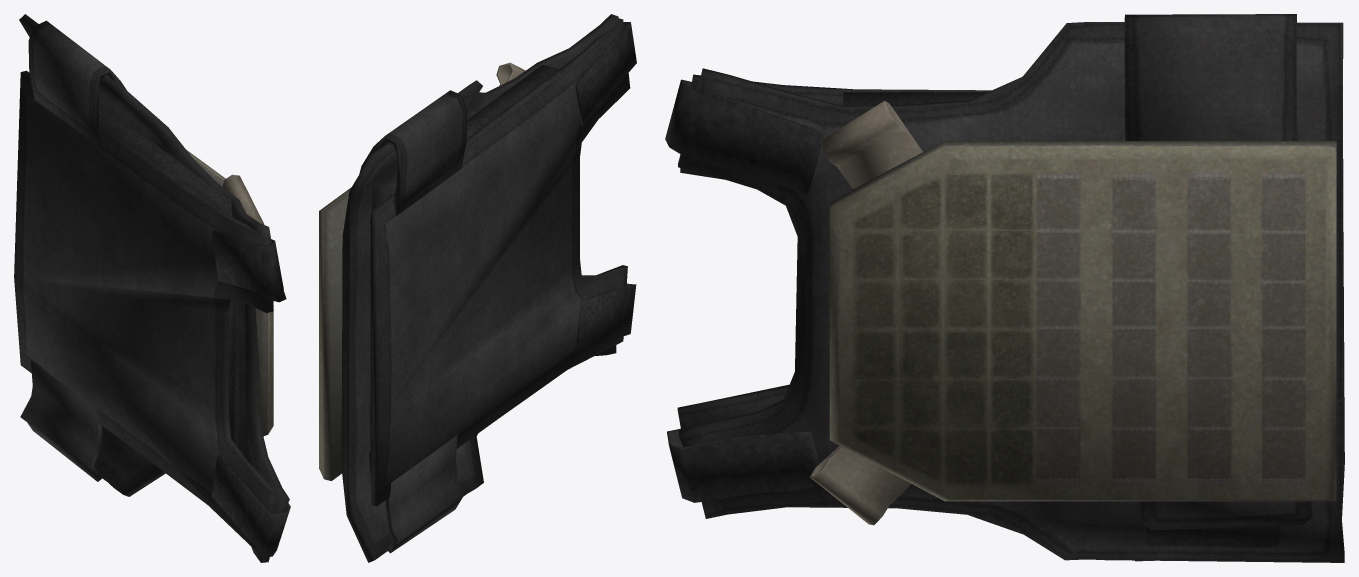
Rendered from Combat Armor Pickup.fbx.
3 views of the same model, side by side, from view 1: azimuth 30°, elevation 25°; view 2: azimuth 150°, elevation 25°; view 3: azimuth 270°, elevation 25° (orthographic). The views are drawn at different scales.
Parts seen in each view (by area): view 1: MediumArmor_LOD0, plateM_LOD0; view 2: MediumArmor_LOD0, plateM_LOD0; view 3: plateM_LOD0, MediumArmor_LOD0.
Boxes of the visible parts, x1,y1,x2,y2 form: MediumArmor_LOD0: [14, 14, 290, 562]; plateM_LOD0: [186, 150, 273, 435]; MediumArmor_LOD0: [341, 14, 636, 562]; plateM_LOD0: [319, 62, 525, 480]; plateM_LOD0: [810, 101, 1336, 525]; MediumArmor_LOD0: [665, 14, 1344, 562].
Size of what is drawn, in the model's own units: 0.1649 by 0.8882 by 0.9952.
Materials: 1 (1 with a texture image).
